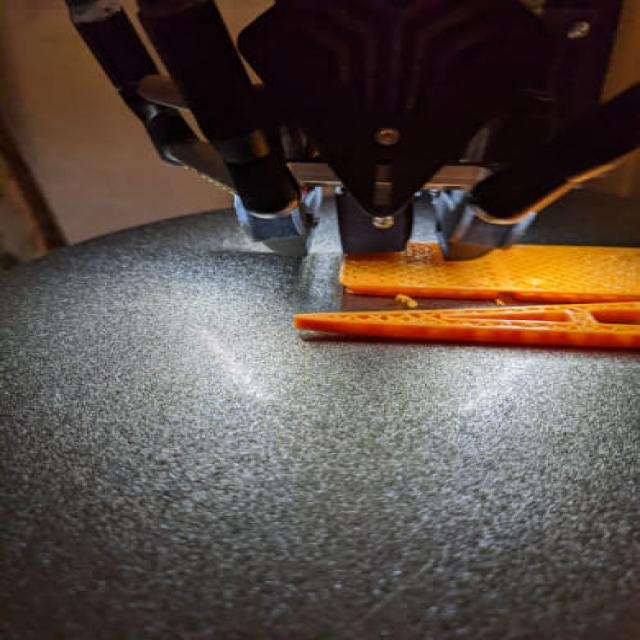Warping: (296, 324, 448, 345)
